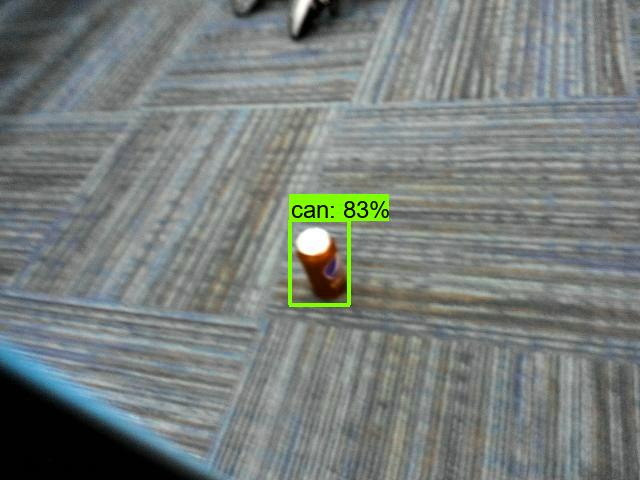can: (291, 222, 351, 303)
